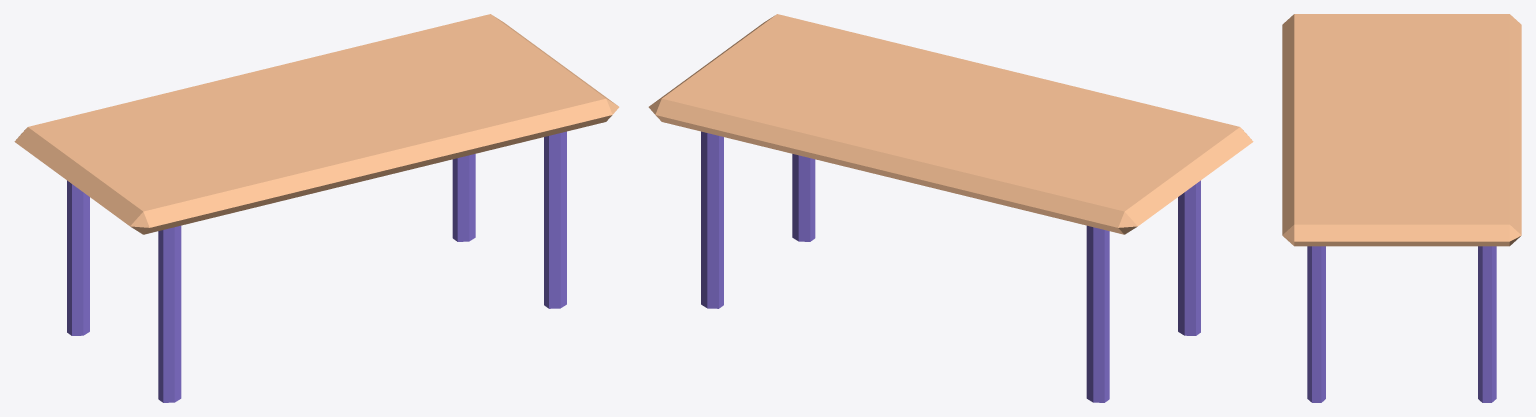
The picture shows the model from 3 angles, left to right: view 1: azimuth 30°, elevation 25°; view 2: azimuth 150°, elevation 25°; view 3: azimuth 270°, elevation 25°; orthographic projection. The views are drawn at different scales.
Parts seen in each view (by area): view 1: Rounded table top, Leg, Leg.002, Leg.001, Leg.003; view 2: Rounded table top, Leg.001, Leg.003, Leg, Leg.002; view 3: Rounded table top, Leg.002, Leg.003.
Boxes of the visible parts, x1,y1,x2,y2 form: Rounded table top: [14, 14, 619, 234]; Leg: [158, 225, 181, 402]; Leg.002: [544, 131, 566, 308]; Leg.001: [67, 180, 89, 335]; Leg.003: [452, 154, 475, 241]; Rounded table top: [648, 14, 1253, 234]; Leg.001: [1086, 225, 1109, 402]; Leg.003: [701, 131, 723, 308]; Leg: [1178, 180, 1200, 335]; Leg.002: [792, 154, 815, 241]; Rounded table top: [1282, 14, 1521, 246]; Leg.002: [1307, 246, 1325, 402]; Leg.003: [1478, 246, 1496, 402].
Bounding box in the file's own units: 1.98 × 0.795 × 0.9.
Materials: 1 (1 with a texture image).
